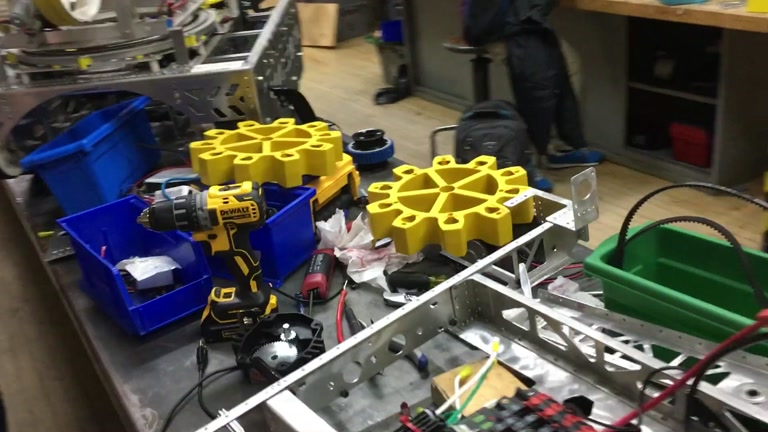gear: (366, 154, 534, 258), (189, 117, 344, 187)
